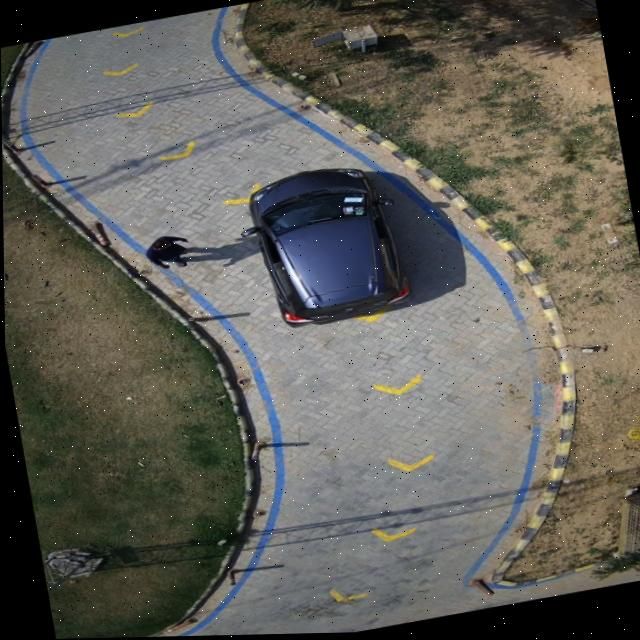car: (242, 169, 409, 327)
